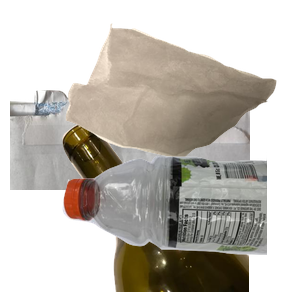glass: (60, 120, 300, 300)
paper: (10, 84, 250, 264)
plastic: (60, 152, 300, 300)
trash: (63, 21, 300, 172)
